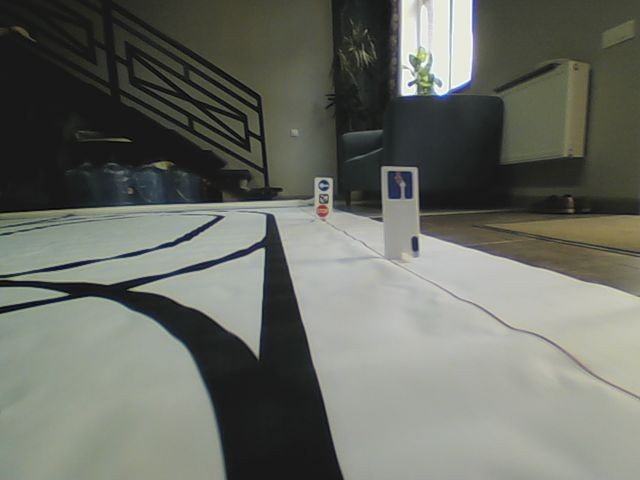priority_movement: (389, 171, 412, 198)
